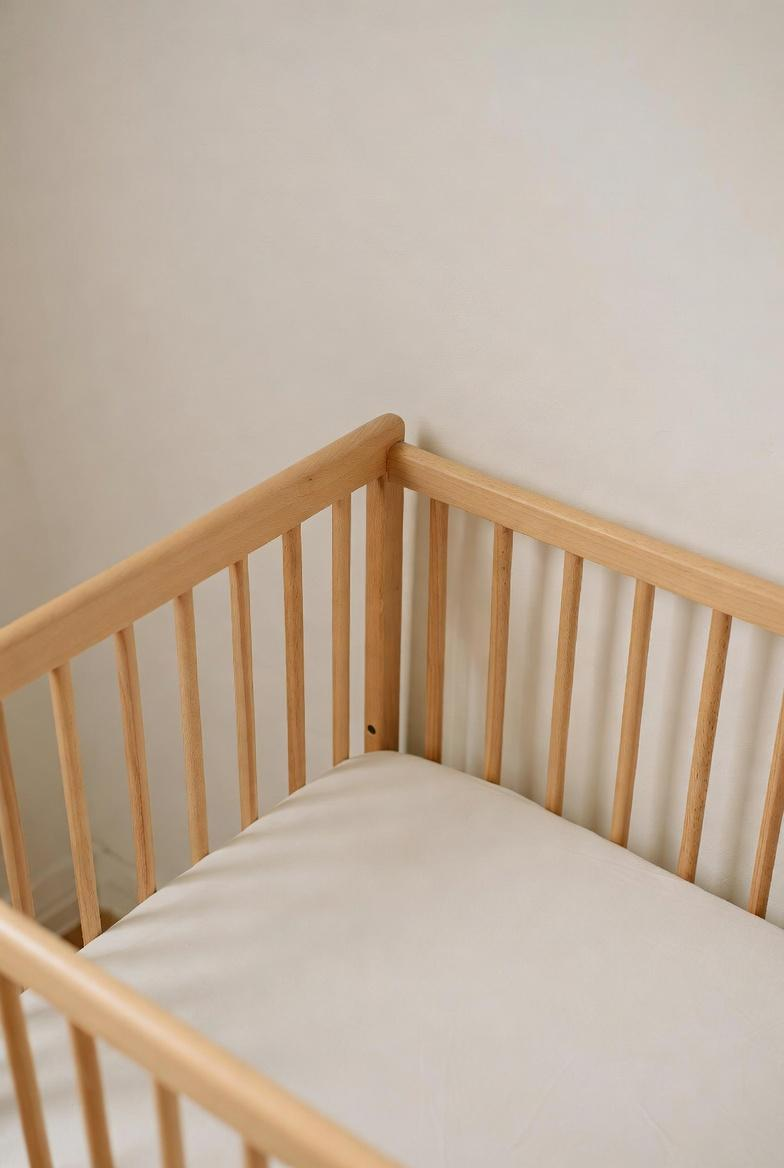crib: (0, 415, 784, 1168)
